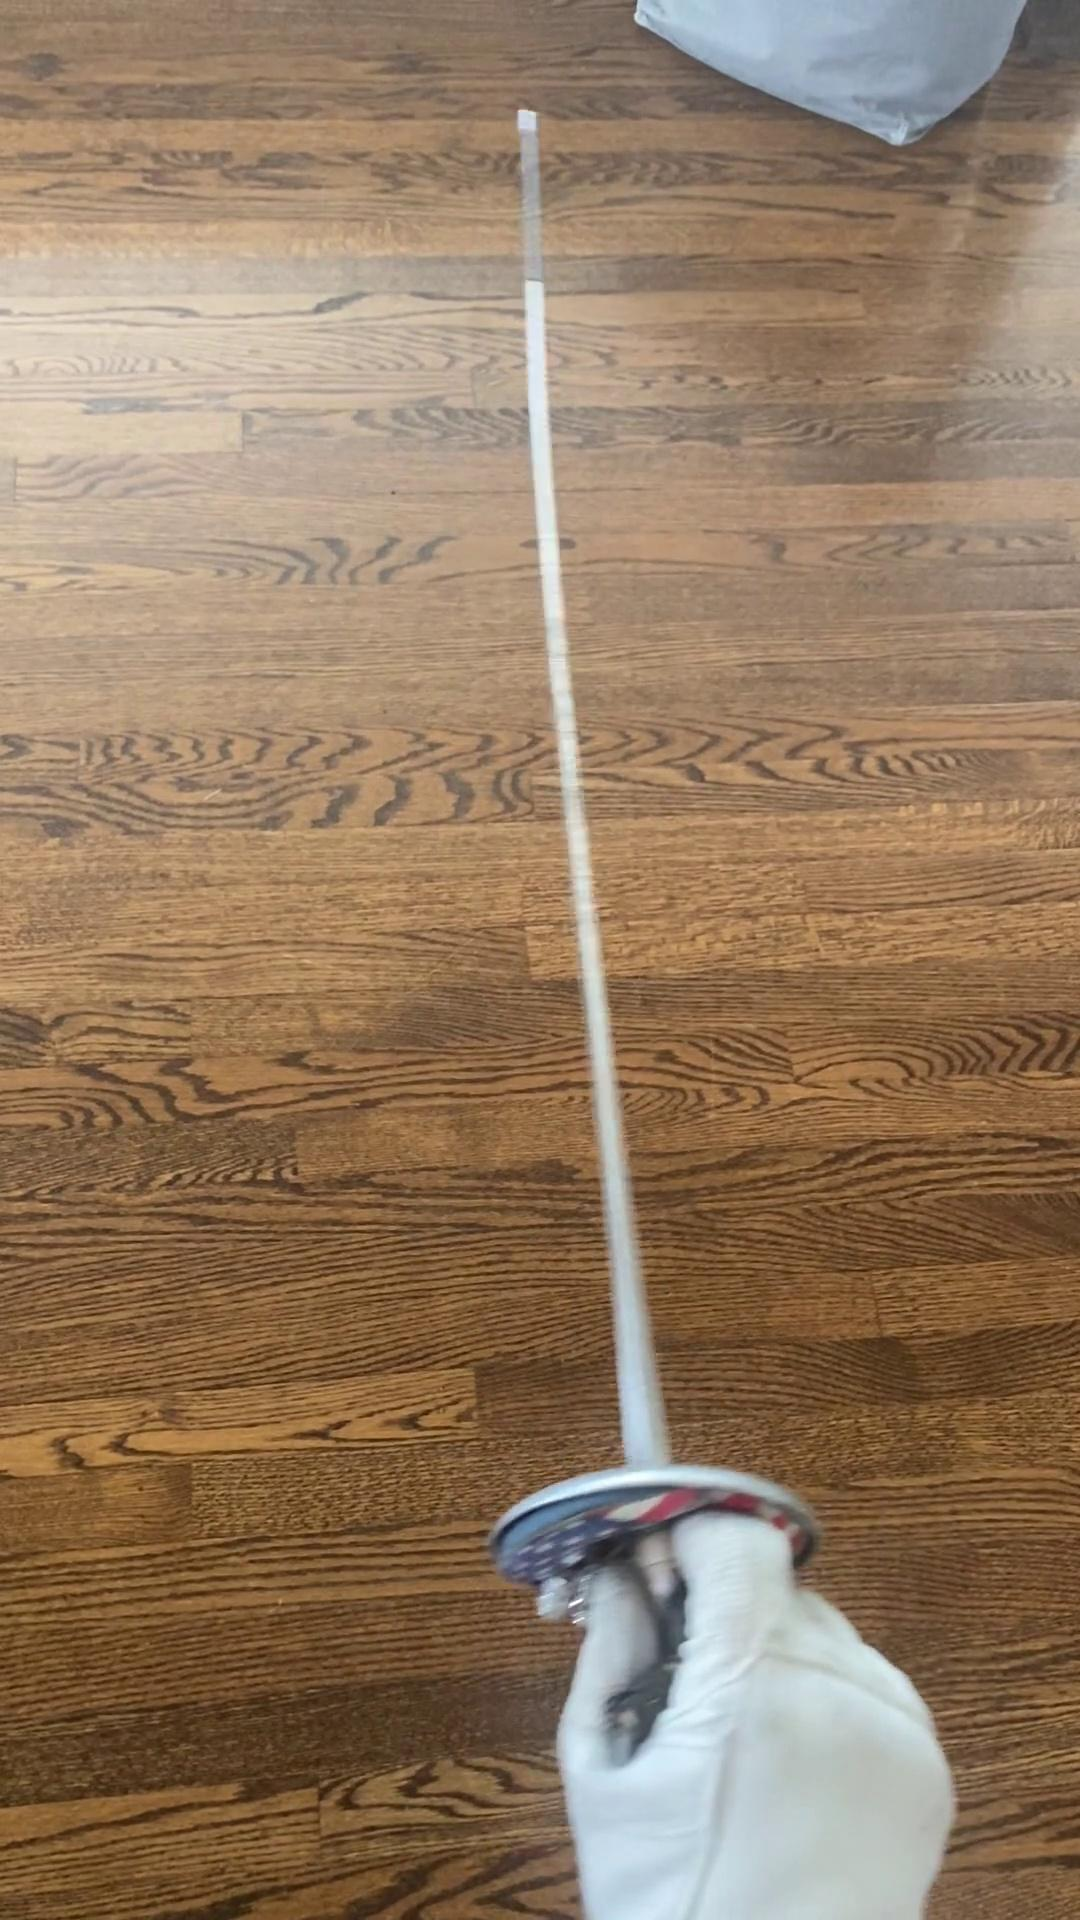blade-guard: (480, 1455, 825, 1644)
blade-tip: (506, 102, 554, 301)
fencing-blade: (479, 91, 829, 1792)
